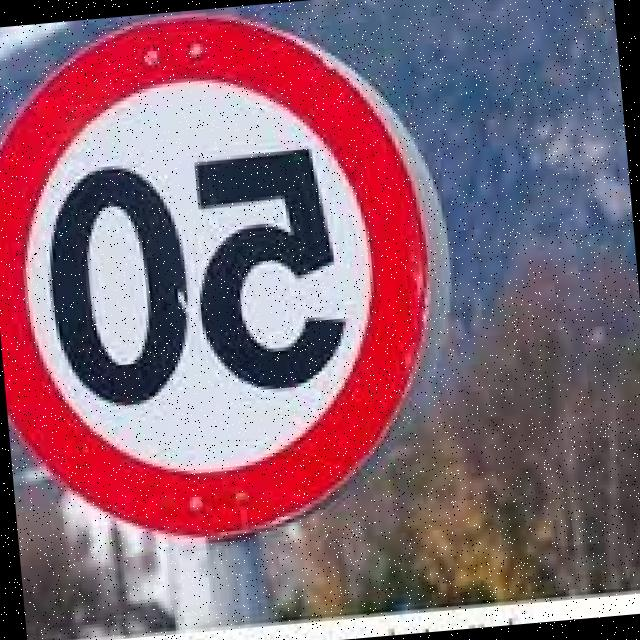speed_limit_50: (0, 0, 463, 562)
